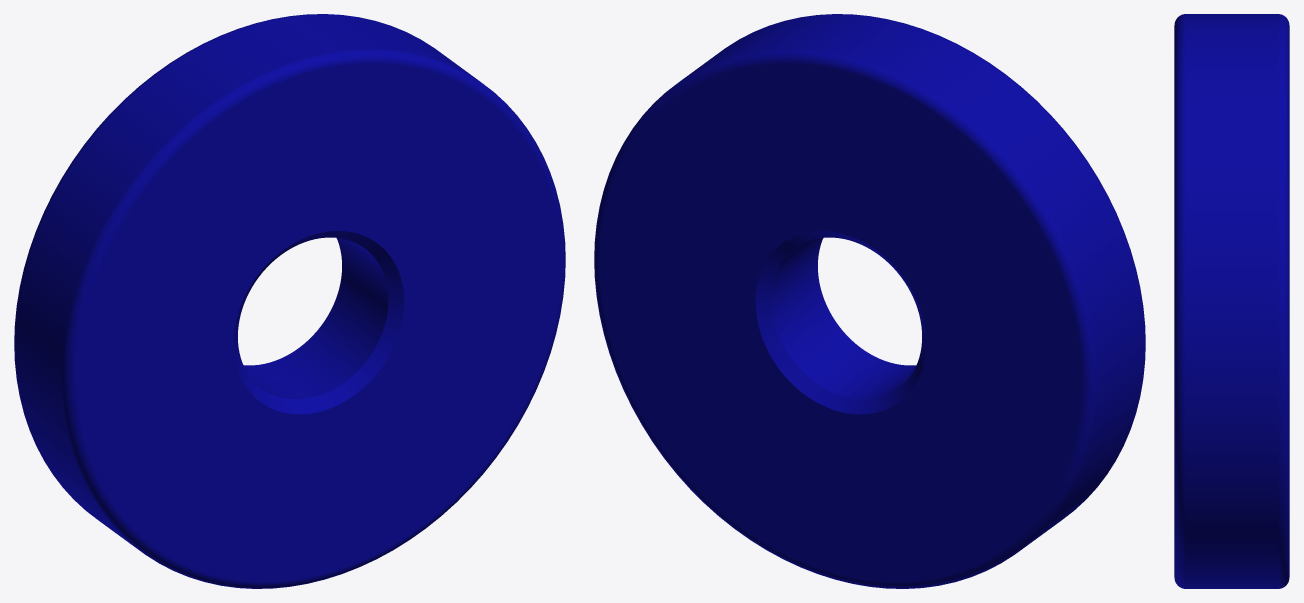
Rendered from toy_five_insertion_one.obj.
3 renders of one model, left to right at view 1: azimuth 30°, elevation 25°; view 2: azimuth 150°, elevation 25°; view 3: azimuth 270°, elevation 25°, orthographic.
Size of the model in its own units: 0.05 by 0.05 by 0.01.
